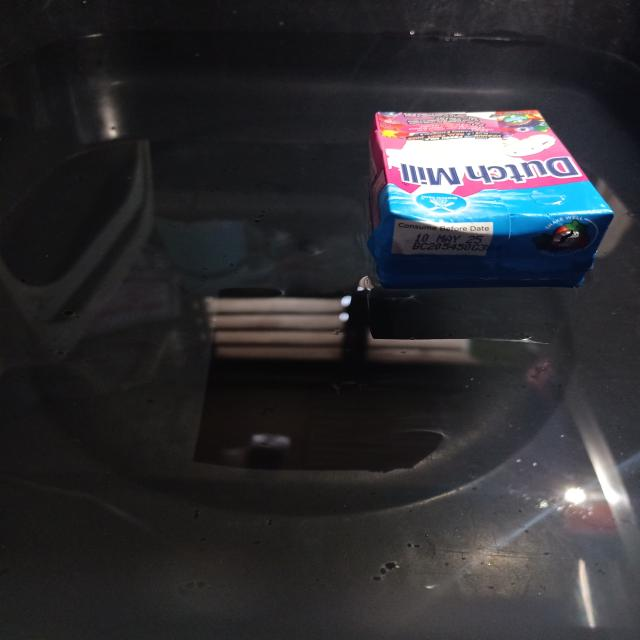Cardboard Box: (368, 110, 614, 288)
